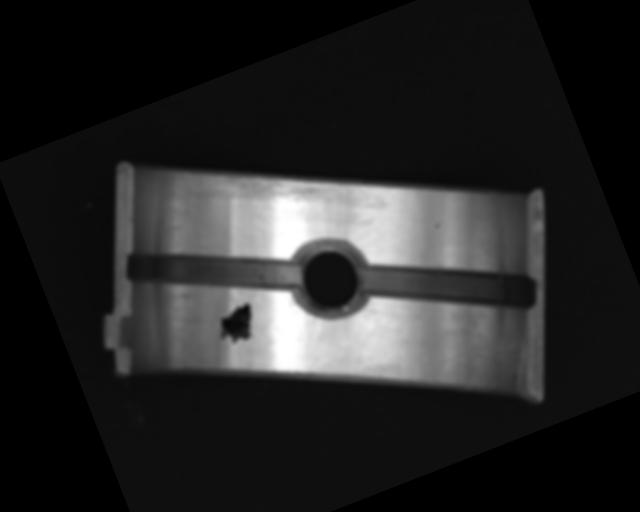blot: (210, 299, 263, 348)
bruise: (430, 220, 442, 230)
gap: (358, 212, 540, 358), (121, 200, 304, 340)
hole: (281, 230, 379, 330)
scratch: (179, 119, 342, 242)
